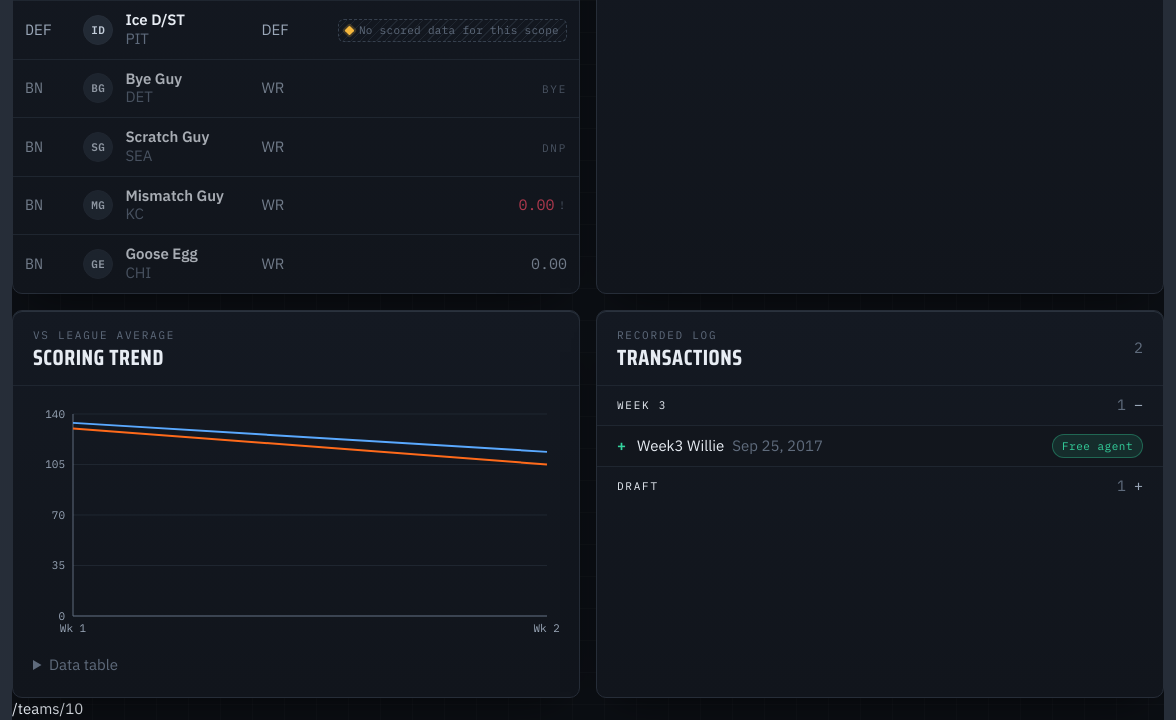
Test: TeamPage › groups transactions by week with a collapsible Draft bucket
The width and height of the screenshot is (1176, 720).
(page scrolled)
Check: the text "Week 3" is shown, box [617,397,667,414]
Check: the text "Week3 Willie" is shown, box [637,434,724,457]
# Expanding the Draft bucket reveals the pick.
Click the text "Draft" at (638, 486), box [617,478,659,494]
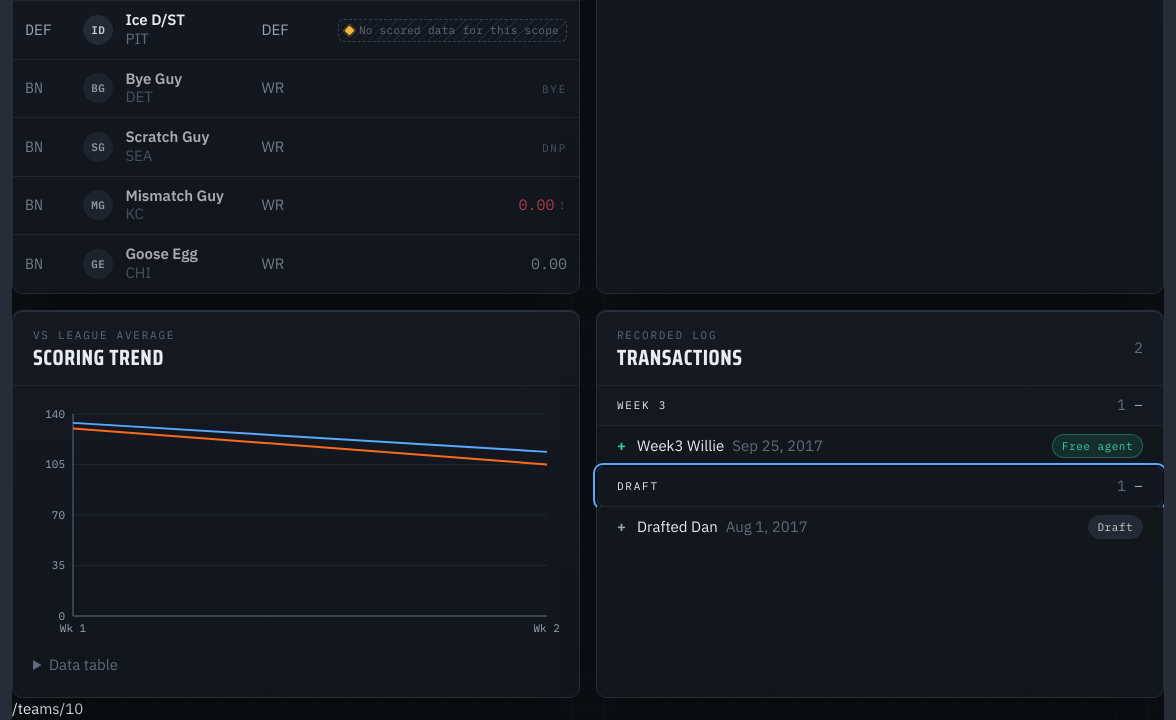
Check: the text "Drafted Dan" is shown, box [637,516,718,538]
